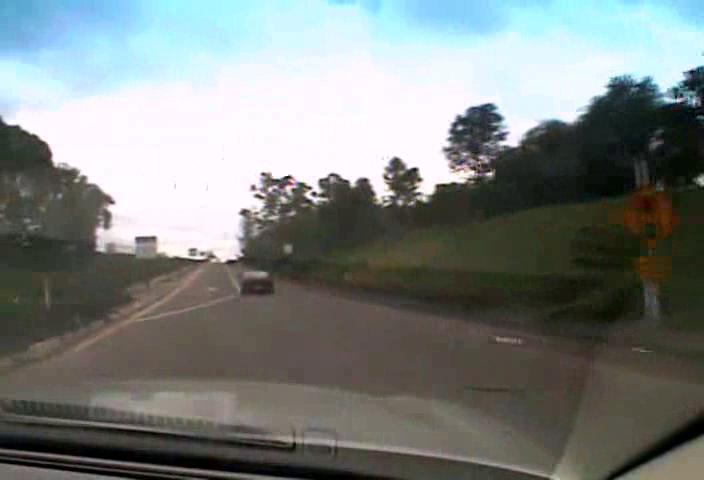signalAhead: (615, 186, 680, 247)
